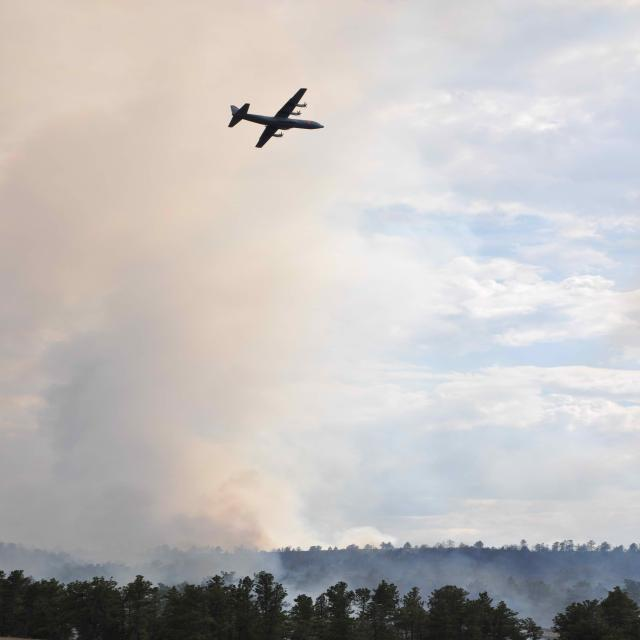MIL_Plane: (228, 88, 324, 148)
